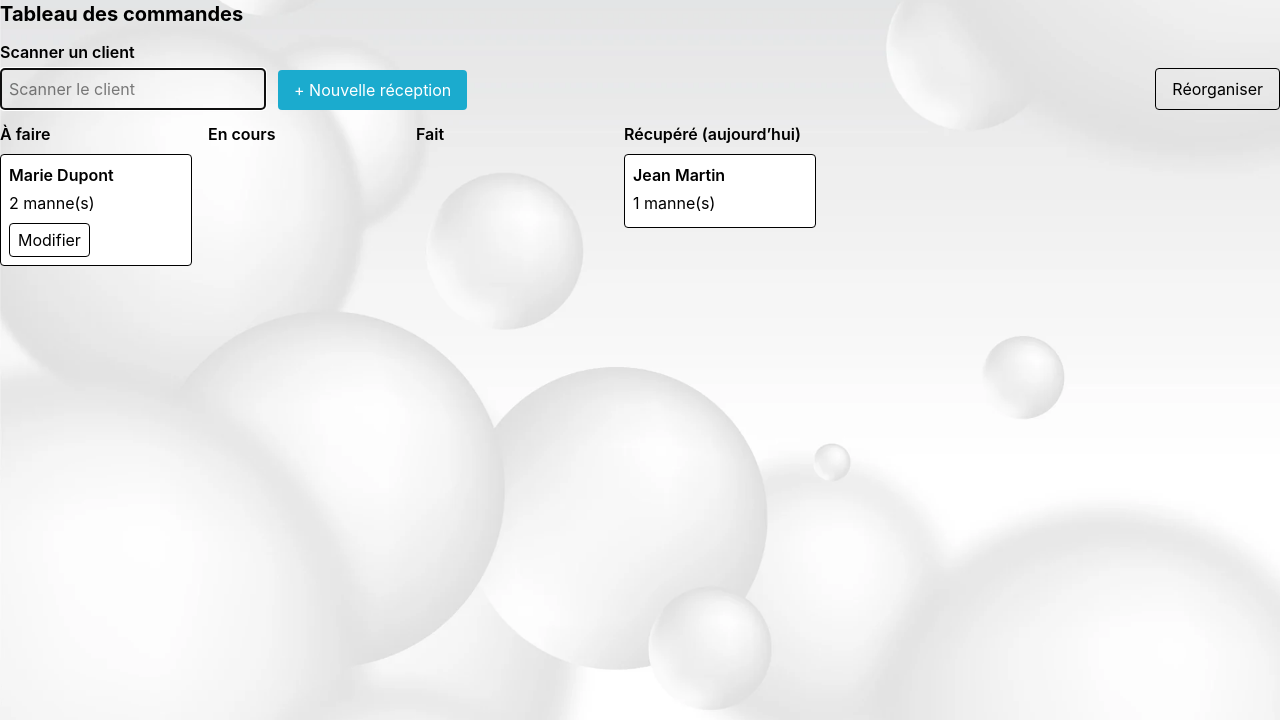
Test: Tableau › annuler la remise n’écrit rien (US #280)
The image size is (1280, 720).
Type "ABC123" into the field with placeholder "Scanner le client" at (133, 89), box [0,68,266,110]
Then press Enter
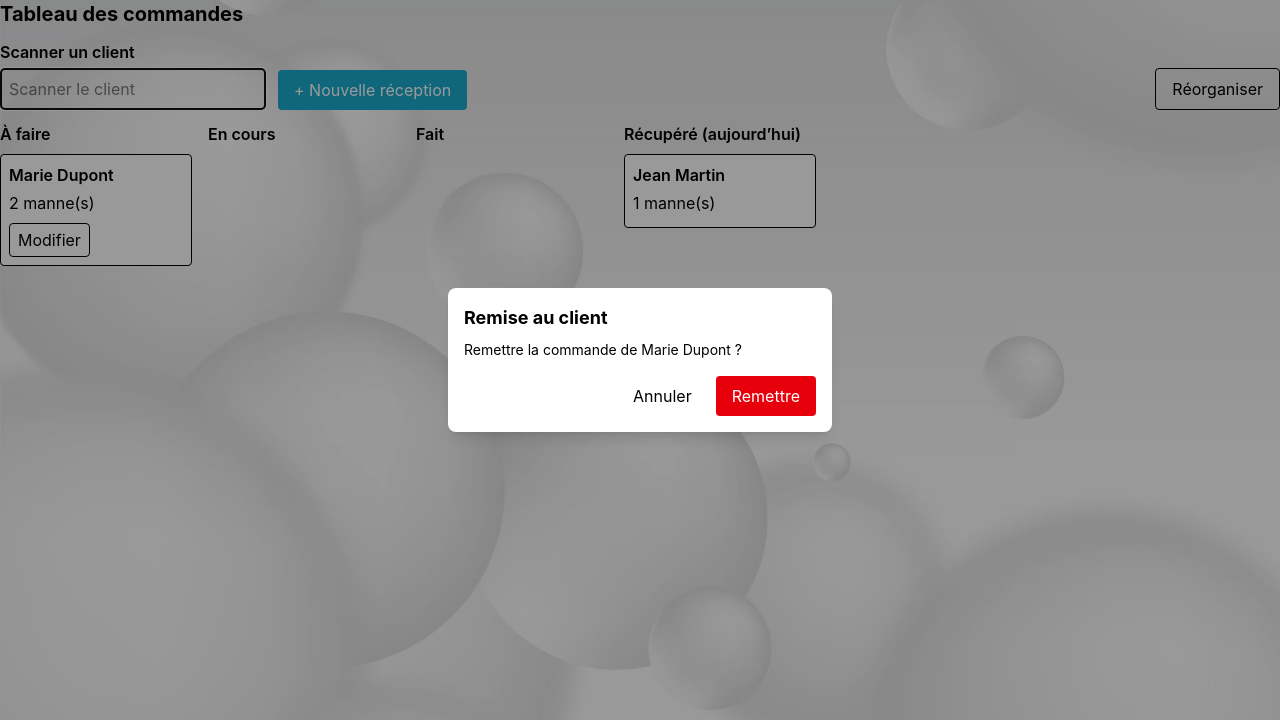
Expected: the text "Remettre la commande de Marie Dupont ?" is shown, [464,341,742,358]
Click the button "Annuler" at (662, 396), box [617,376,708,416]
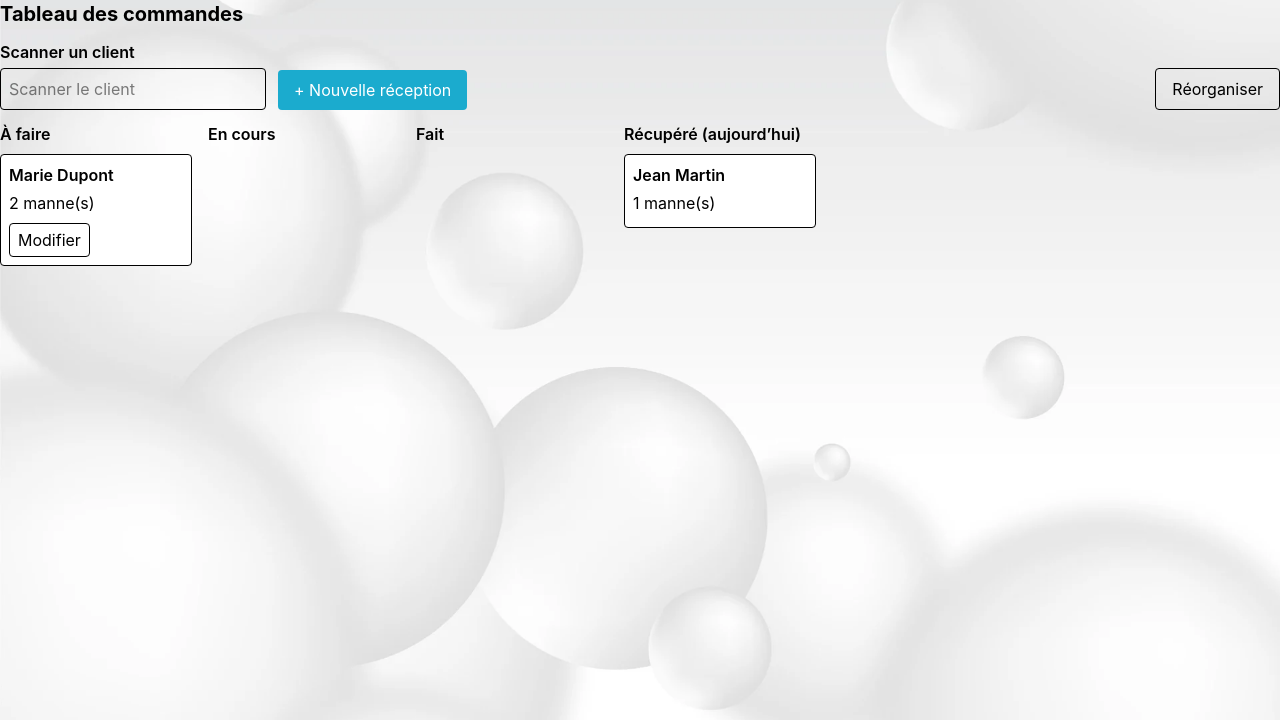
Expected: the text "Remettre la commande" is gone
